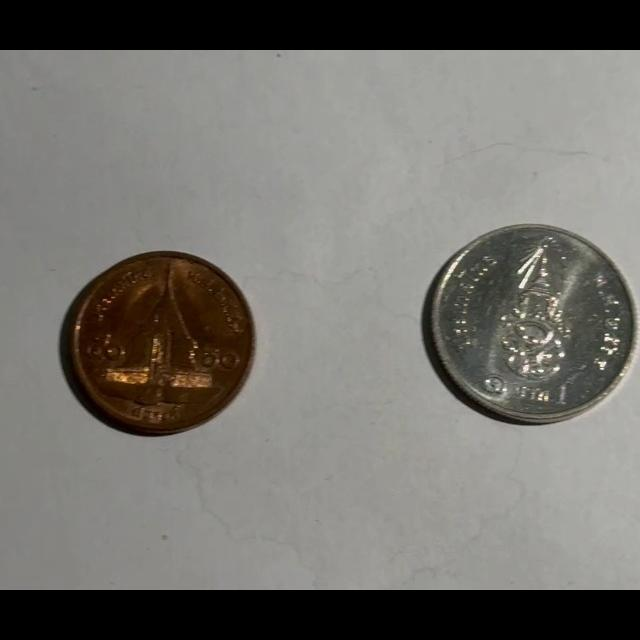1-baht: (425, 224, 640, 423)
50-satang: (65, 253, 252, 434)
